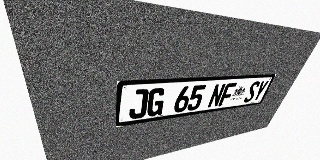5: (186, 85, 206, 111)
6: (173, 86, 193, 113)
F: (218, 83, 237, 106)
G: (146, 87, 166, 117)
J: (128, 89, 149, 120)
N: (207, 83, 226, 108)
S: (243, 81, 261, 103)
Y: (251, 80, 269, 102)
